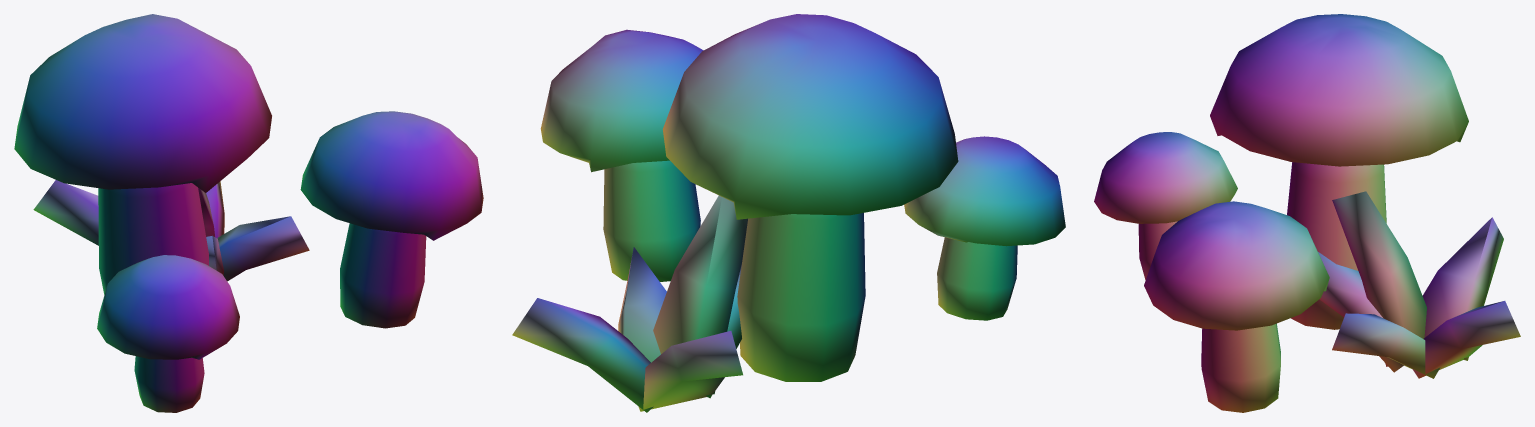
File: SM_Foliage_Plains_RedMushrooms_B.fbx
The picture shows the model from 3 angles, left to right: view 1: azimuth 30°, elevation 25°; view 2: azimuth 150°, elevation 25°; view 3: azimuth 270°, elevation 25°; orthographic projection. The views are drawn at different scales.
Parts seen in each view (by area): view 1: SM_Foliage_Plains_RedMushrooms_B; view 2: SM_Foliage_Plains_RedMushrooms_B; view 3: SM_Foliage_Plains_RedMushrooms_B.
Part boxes in pixels (bbox=[...]): SM_Foliage_Plains_RedMushrooms_B: bbox=[14, 14, 483, 412]; SM_Foliage_Plains_RedMushrooms_B: bbox=[512, 14, 1065, 412]; SM_Foliage_Plains_RedMushrooms_B: bbox=[1094, 14, 1520, 412].
Bounding box in the file's own units: 0.3951 × 0.2848 × 0.3721.
